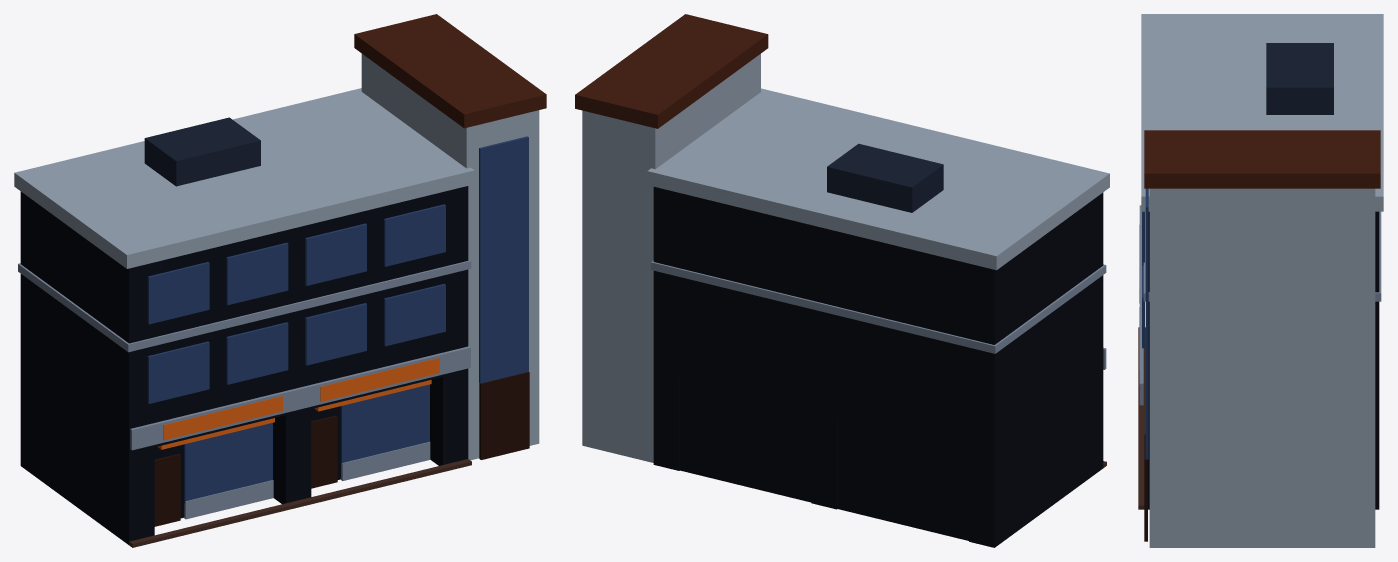
The model's file is retailpark5.obj.
3 views of the same model, side by side, from view 1: azimuth 30°, elevation 25°; view 2: azimuth 150°, elevation 25°; view 3: azimuth 270°, elevation 25° (orthographic). The views are drawn at different scales.
Parts seen in each view (by area): view 1: upper-block, block-cap, office-glazing, ground-piers, stair-tower, tower-glazing, tower-cap, shopfronts, roof-plant, floor-band, fascia-band, tower-entrance (+7 smaller); view 2: upper-block, block-cap, stair-tower, ground-back, ground-piers, tower-cap, shopfront-heads, roof-plant, floor-band; view 3: stair-tower, block-cap, tower-cap, roof-plant, upper-block, pavement, tower-glazing, ground-piers, fascia-band, floor-band, tower-entrance, office-glazing.
Boxes of the visible parts, <box> form: upper-block: <box>20,186,468,427</box>; block-cap: <box>14,88,474,268</box>; office-glazing: <box>147,204,445,403</box>; ground-piers: <box>20,345,468,544</box>; stair-tower: <box>361,53,539,460</box>; tower-glazing: <box>479,136,528,383</box>; tower-cap: <box>354,14,546,128</box>; shopfronts: <box>184,384,429,503</box>; roof-plant: <box>144,117,260,186</box>; floor-band: <box>18,259,471,352</box>; fascia-band: <box>130,346,470,450</box>; tower-entrance: <box>479,372,529,459</box>; upper-block: <box>653,187,1103,429</box>; block-cap: <box>647,88,1109,270</box>; stair-tower: <box>582,54,760,462</box>; ground-back: <box>680,379,968,540</box>; ground-piers: <box>653,347,1103,547</box>; tower-cap: <box>575,14,768,128</box>; shopfront-heads: <box>679,353,968,449</box>; roof-plant: <box>827,143,943,212</box>; floor-band: <box>651,260,1106,353</box>; stair-tower: <box>1149,188,1375,547</box>; block-cap: <box>1141,14,1383,211</box>; tower-cap: <box>1144,130,1380,188</box>; roof-plant: <box>1266,43,1333,114</box>; upper-block: <box>1148,211,1379,383</box>; pavement: <box>1138,327,1145,509</box>; tower-glazing: <box>1145,188,1148,459</box>; ground-piers: <box>1148,383,1379,509</box>; fascia-band: <box>1139,205,1143,405</box>; floor-band: <box>1143,211,1381,301</box>; tower-entrance: <box>1144,434,1147,541</box>; office-glazing: <box>1142,211,1144,348</box>.
Bounding box in the file's own units: 6.95 × 5.52 × 3.26.
